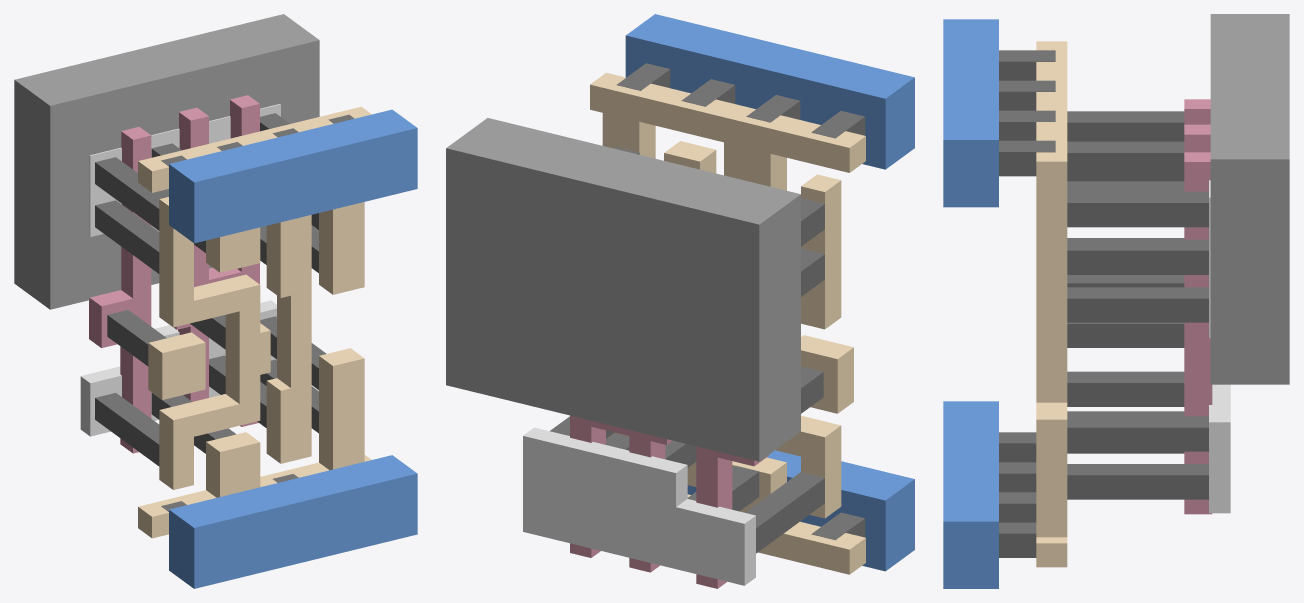
Rendered from sky130_fd_sc_hd__buf_2.gds.gltf.
3 views of the same model, side by side, from view 1: azimuth 30°, elevation 25°; view 2: azimuth 150°, elevation 25°; view 3: azimuth 270°, elevation 25° (orthographic). The views are drawn at different scales.
Visible parts, largest first — view 1: sky130_fd_sc_hd__buf_2_li1, sky130_fd_sc_hd__buf_2_met1, sky130_fd_sc_hd__buf_2_nwell, sky130_fd_sc_hd__buf_2_licon, sky130_fd_sc_hd__buf_2_poly, sky130_fd_sc_hd__buf_2_diff, sky130_fd_sc_hd__buf_2_mcon; view 2: sky130_fd_sc_hd__buf_2_nwell, sky130_fd_sc_hd__buf_2_li1, sky130_fd_sc_hd__buf_2_met1, sky130_fd_sc_hd__buf_2_diff, sky130_fd_sc_hd__buf_2_licon, sky130_fd_sc_hd__buf_2_poly, sky130_fd_sc_hd__buf_2_mcon; view 3: sky130_fd_sc_hd__buf_2_licon, sky130_fd_sc_hd__buf_2_nwell, sky130_fd_sc_hd__buf_2_met1, sky130_fd_sc_hd__buf_2_li1, sky130_fd_sc_hd__buf_2_mcon, sky130_fd_sc_hd__buf_2_poly, sky130_fd_sc_hd__buf_2_diff.
Boxes of the visible parts, x1=… form: sky130_fd_sc_hd__buf_2_li1: x1=138, y1=106, x2=371, y2=538; sky130_fd_sc_hd__buf_2_met1: x1=169, y1=109, x2=417, y2=588; sky130_fd_sc_hd__buf_2_nwell: x1=14, y1=14, x2=319, y2=309; sky130_fd_sc_hd__buf_2_licon: x1=95, y1=113, x2=326, y2=466; sky130_fd_sc_hd__buf_2_poly: x1=89, y1=95, x2=259, y2=453; sky130_fd_sc_hd__buf_2_diff: x1=80, y1=104, x2=280, y2=436; sky130_fd_sc_hd__buf_2_mcon: x1=161, y1=114, x2=354, y2=511; sky130_fd_sc_hd__buf_2_nwell: x1=446, y1=118, x2=800, y2=461; sky130_fd_sc_hd__buf_2_li1: x1=590, y1=72, x2=865, y2=574; sky130_fd_sc_hd__buf_2_met1: x1=625, y1=14, x2=914, y2=571; sky130_fd_sc_hd__buf_2_diff: x1=523, y1=427, x2=755, y2=585; sky130_fd_sc_hd__buf_2_licon: x1=550, y1=146, x2=824, y2=553; sky130_fd_sc_hd__buf_2_poly: x1=570, y1=415, x2=768, y2=588; sky130_fd_sc_hd__buf_2_mcon: x1=617, y1=63, x2=865, y2=540; sky130_fd_sc_hd__buf_2_licon: x1=1067, y1=111, x2=1208, y2=499; sky130_fd_sc_hd__buf_2_nwell: x1=1210, y1=14, x2=1289, y2=384; sky130_fd_sc_hd__buf_2_met1: x1=943, y1=19, x2=998, y2=588; sky130_fd_sc_hd__buf_2_li1: x1=1036, y1=41, x2=1067, y2=567; sky130_fd_sc_hd__buf_2_mcon: x1=999, y1=50, x2=1055, y2=557; sky130_fd_sc_hd__buf_2_poly: x1=1184, y1=99, x2=1212, y2=514; sky130_fd_sc_hd__buf_2_diff: x1=1209, y1=180, x2=1230, y2=513.
Bounding box in the file's own units: 2.22 × 3.2 × 2.24.
